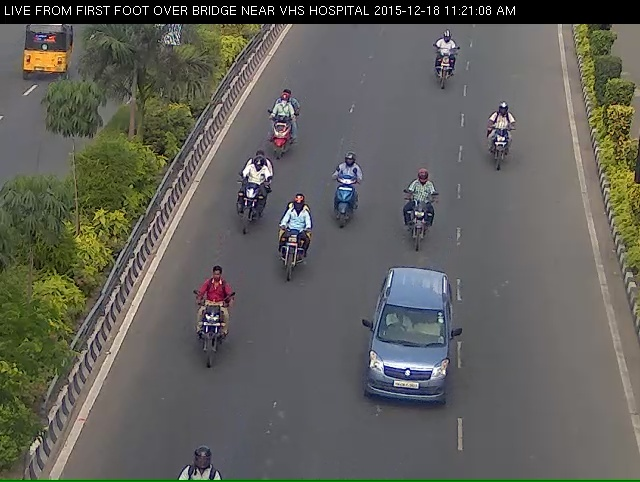Car: (356, 289, 465, 441)
Person: (397, 183, 448, 272), (179, 294, 223, 396), (268, 214, 310, 305), (223, 167, 264, 250), (321, 165, 359, 250), (255, 103, 301, 171), (482, 114, 522, 184), (429, 34, 460, 99)
